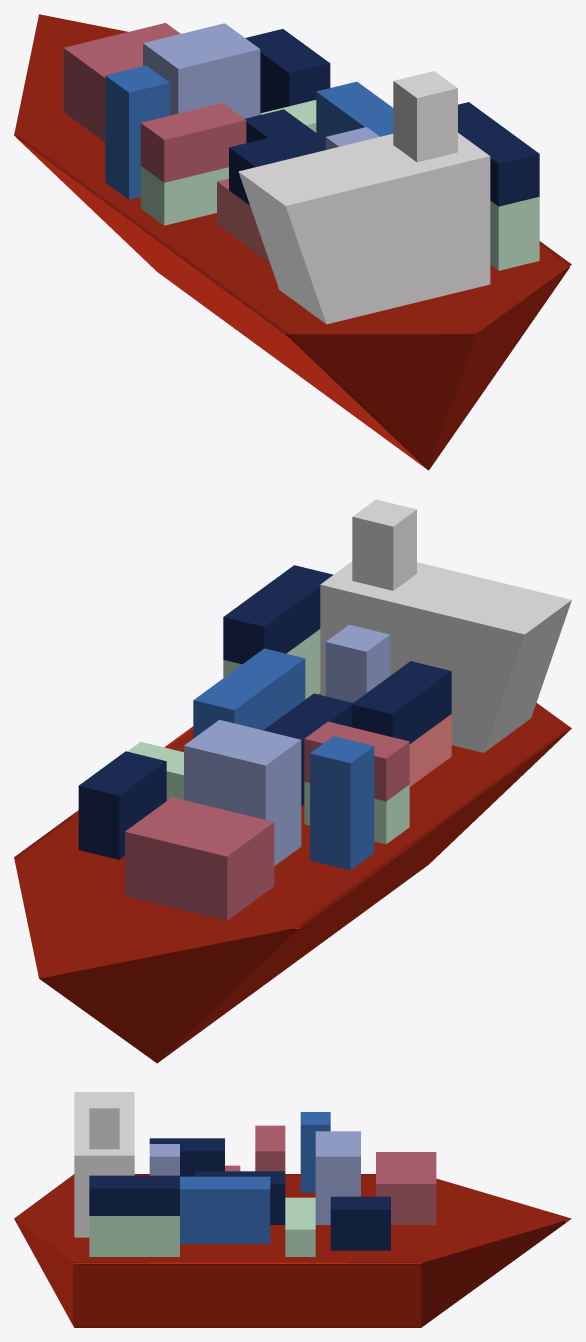
File: Trading Ship.fbx
3 renders of one model, top to bottom at view 1: azimuth 30°, elevation 25°; view 2: azimuth 150°, elevation 25°; view 3: azimuth 270°, elevation 25°, orthographic. The views are drawn at different scales.
Visible parts, largest first — view 1: Base; view 2: Base; view 3: Base.
Part boxes in pixels (x1,y1,x2,y2): Base: (14, 14, 571, 470); Base: (14, 499, 571, 1063); Base: (14, 1092, 571, 1327).
Size of the model in its own units: 87.5 by 106 by 231.
3 materials, 3 textured.
